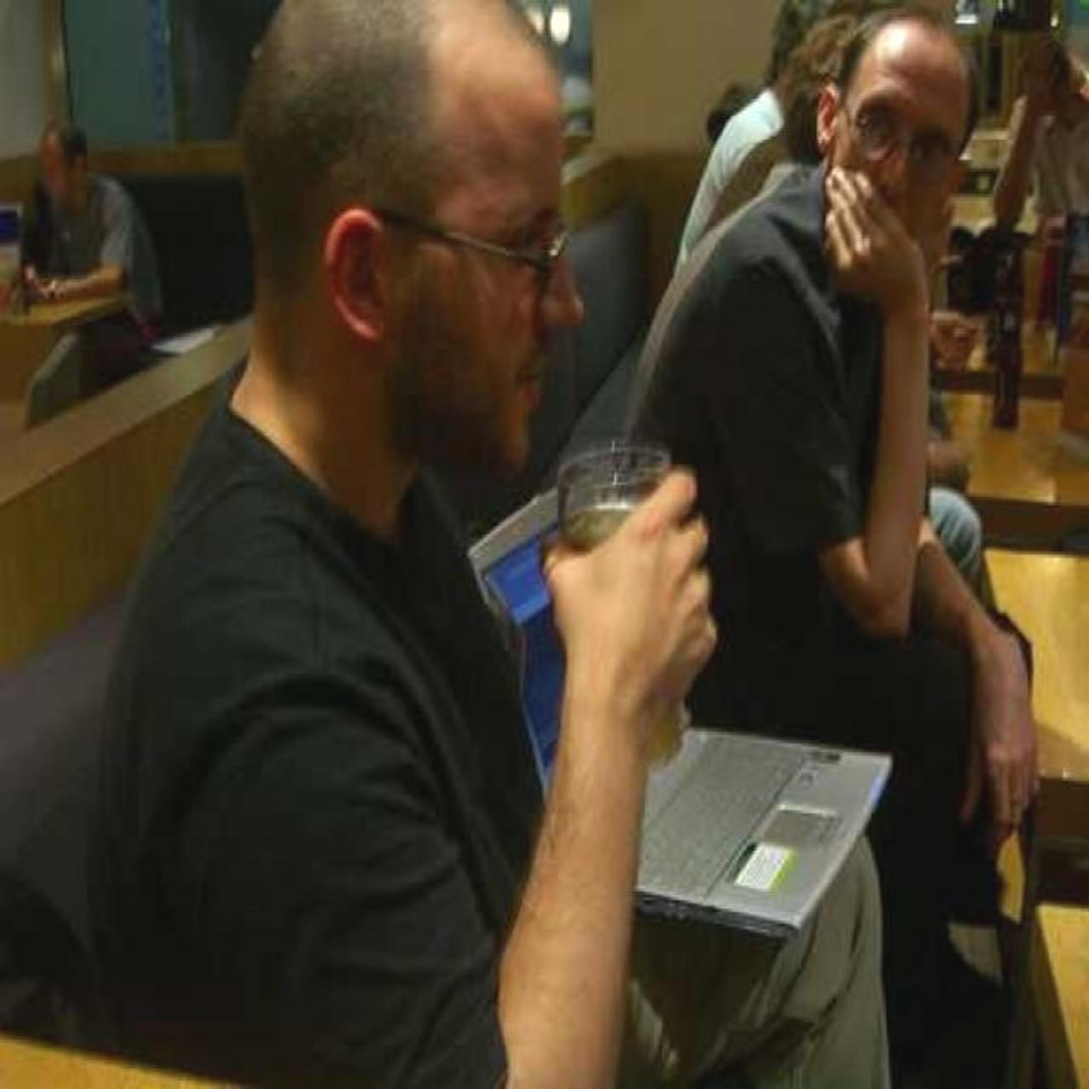laptop: (499, 545, 887, 921)
